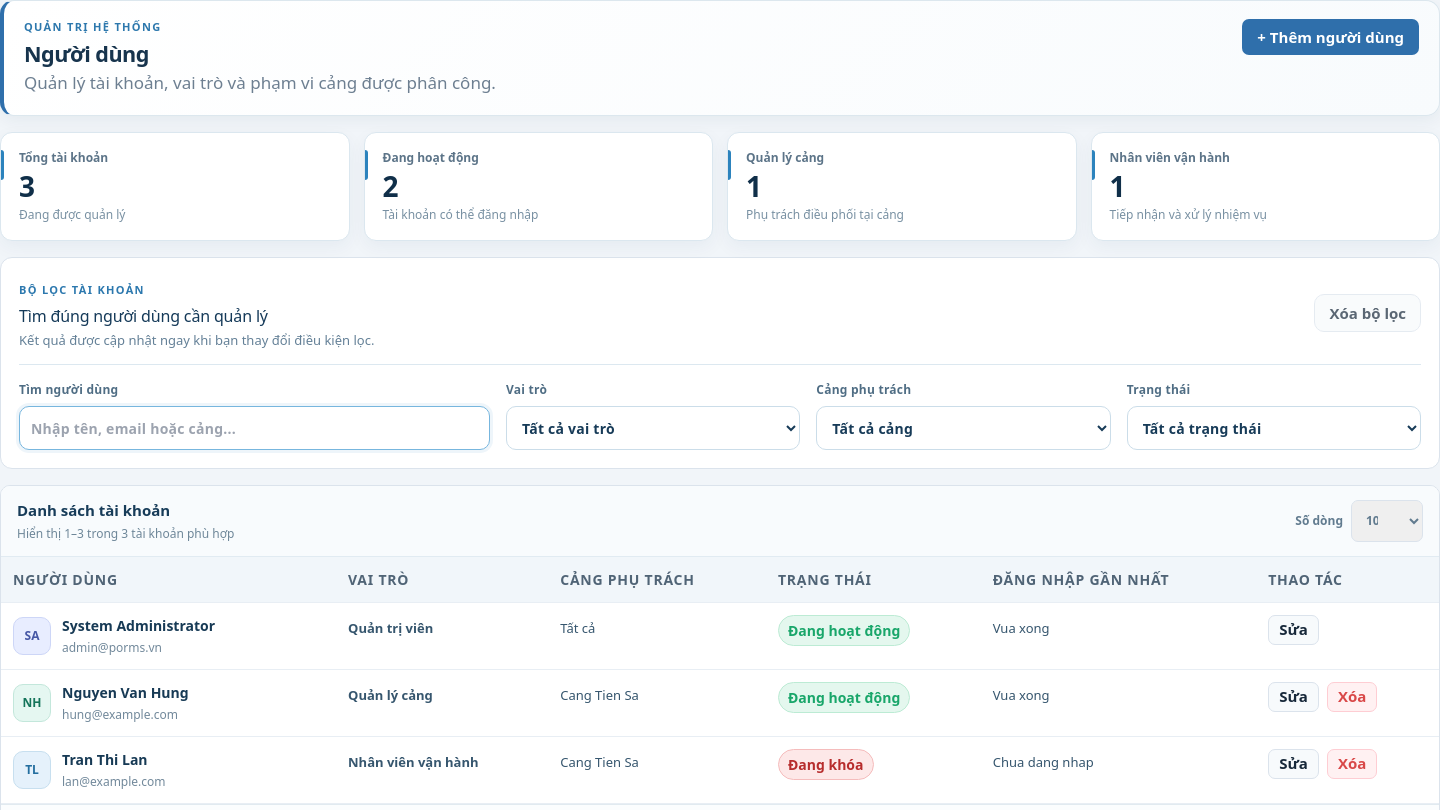
Test: UsersPage › filters users by name, email or assigned port
Expected: the text "Nguyen Van Hung" is shown, 62,682 -> 189,702
Type "Cang Tien Sa" into the field labelled "Tìm người dùng" at (254, 428), box 19,406 -> 490,450
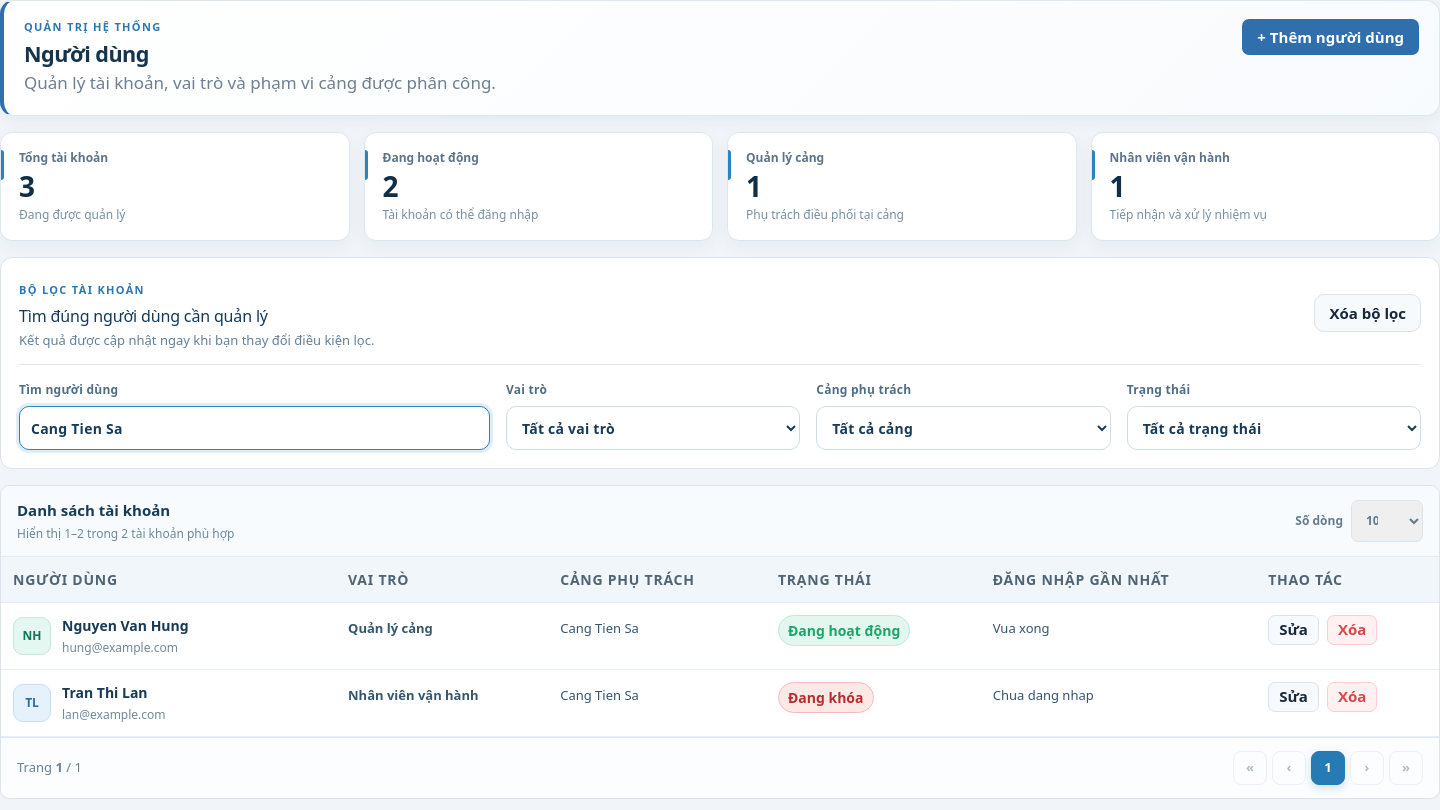
Expected: the text "Nguyen Van Hung" is shown, 62,614 -> 189,636
Now the text "System Administrator" is gone
